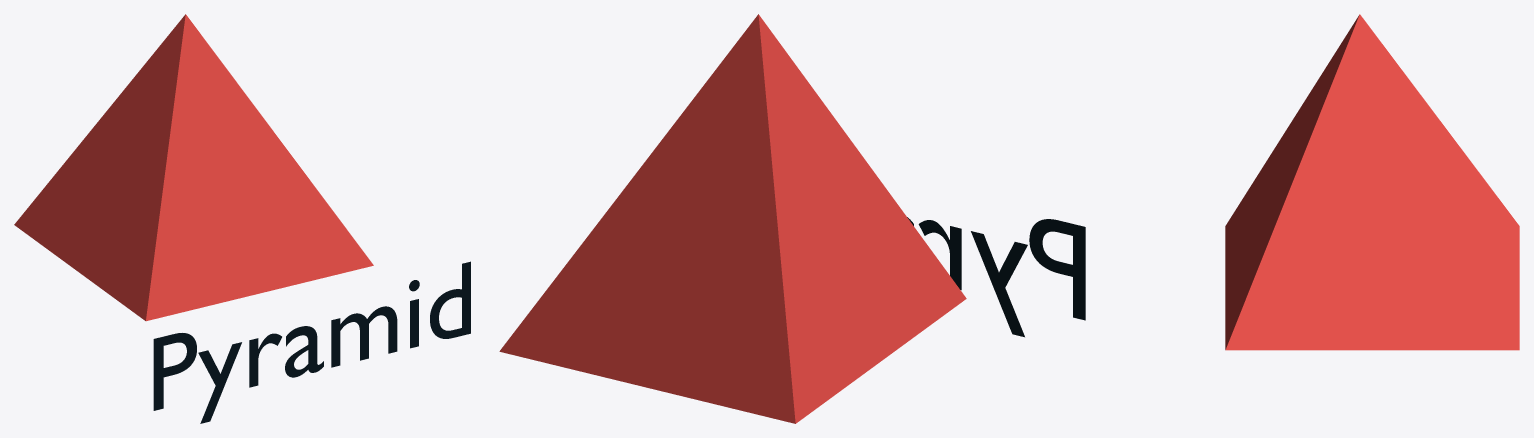
3 views of the same model, side by side, from view 1: azimuth 30°, elevation 25°; view 2: azimuth 150°, elevation 25°; view 3: azimuth 270°, elevation 25° (orthographic). The views are drawn at different scales.
Parts seen in each view (by area): view 1: Cube, Text; view 2: Cube, Text; view 3: Cube.
Boxes of the visible parts, box(x1,y1,x2,y2) form: Cube: box(14, 14, 373, 321); Text: box(153, 261, 470, 423); Cube: box(499, 14, 966, 423); Text: box(907, 217, 1085, 337); Cube: box(1225, 14, 1519, 350).
Bounding box in the file's own units: 0.1517 × 0.1399 × 0.1503.
